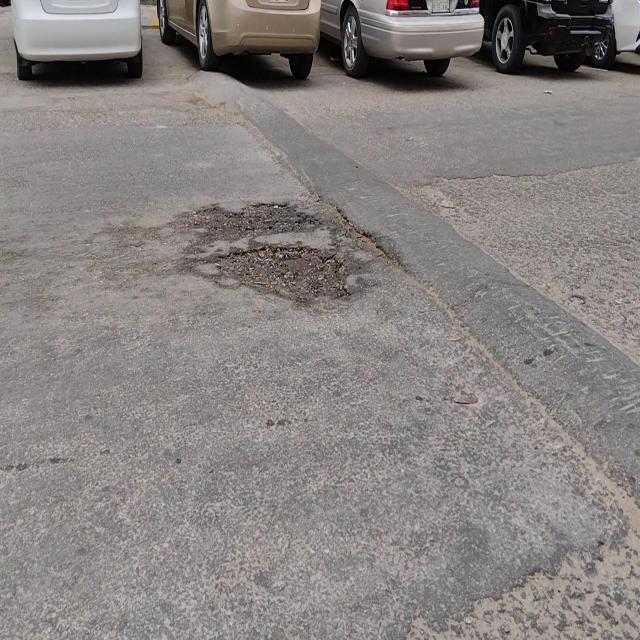Potholes: (211, 246, 352, 305), (192, 200, 318, 247)
